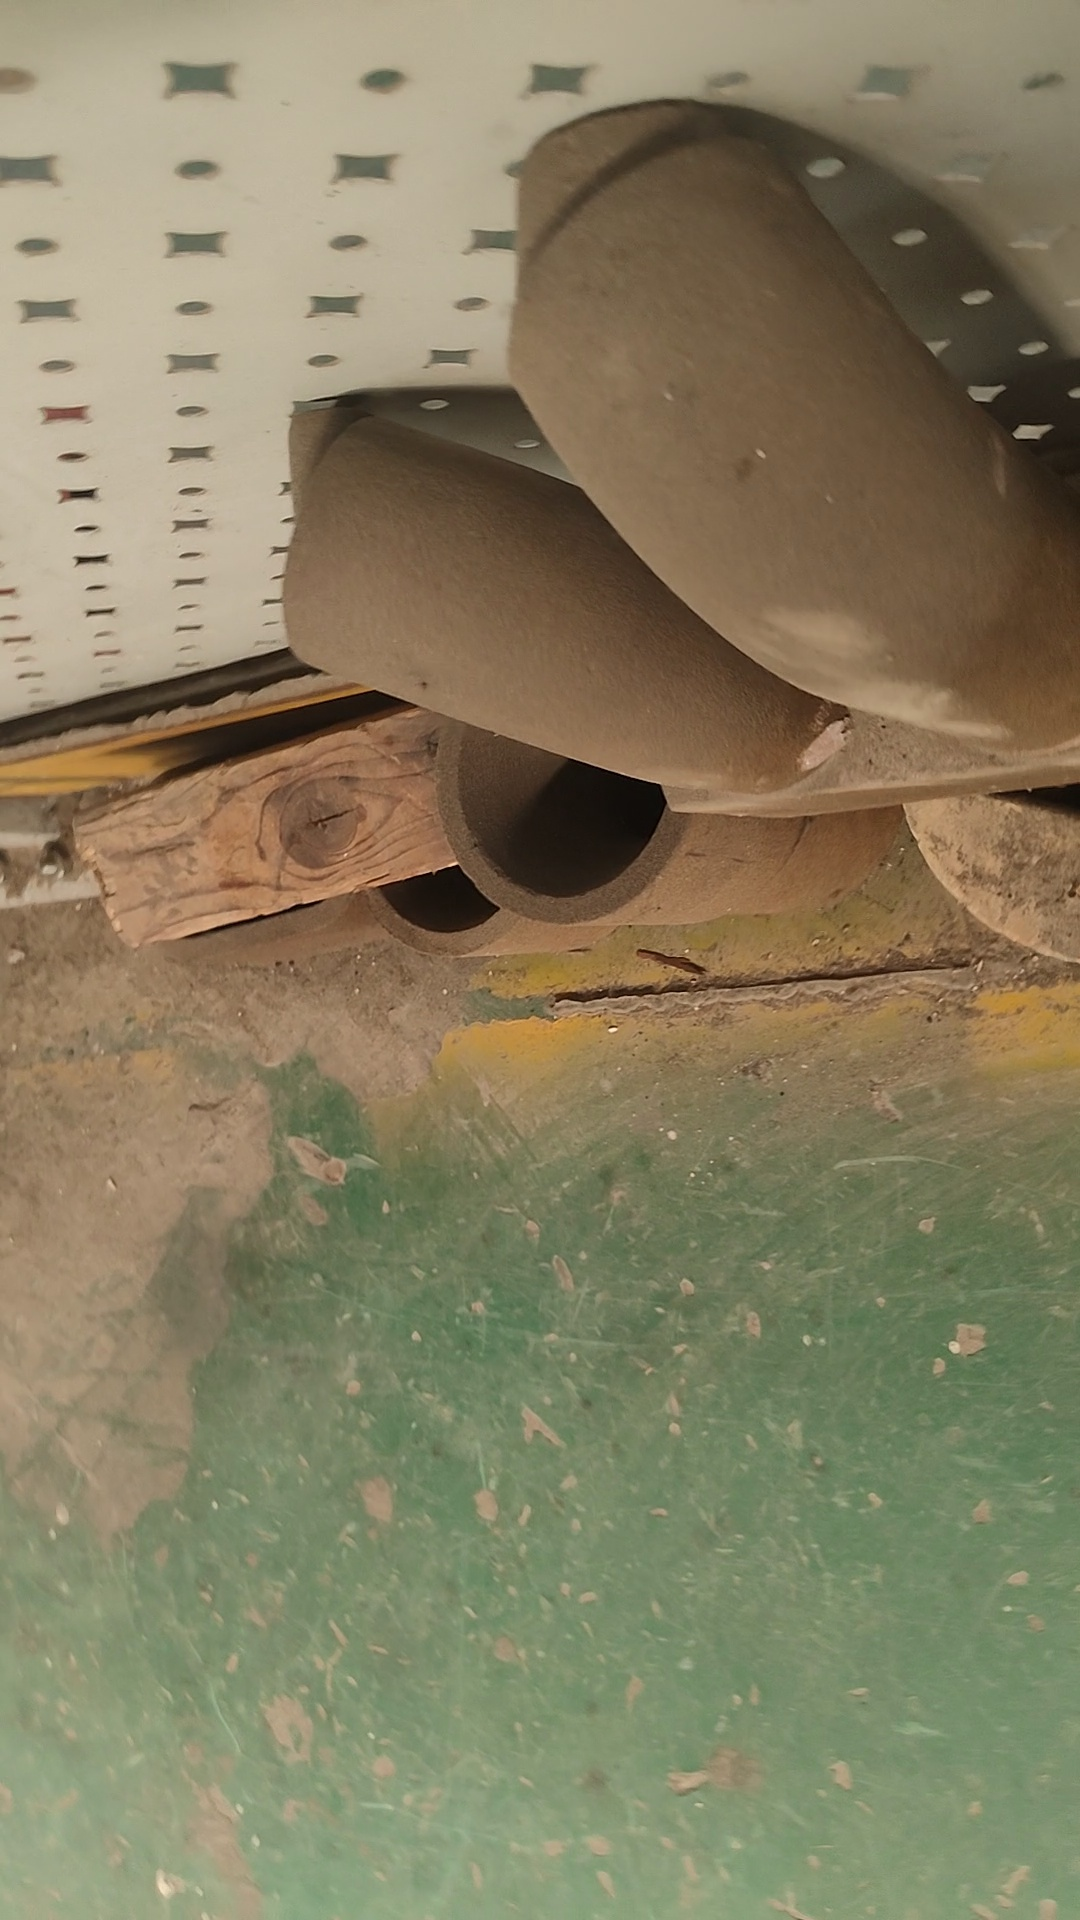pouring hole: (454, 712, 670, 899), (361, 778, 517, 934)
